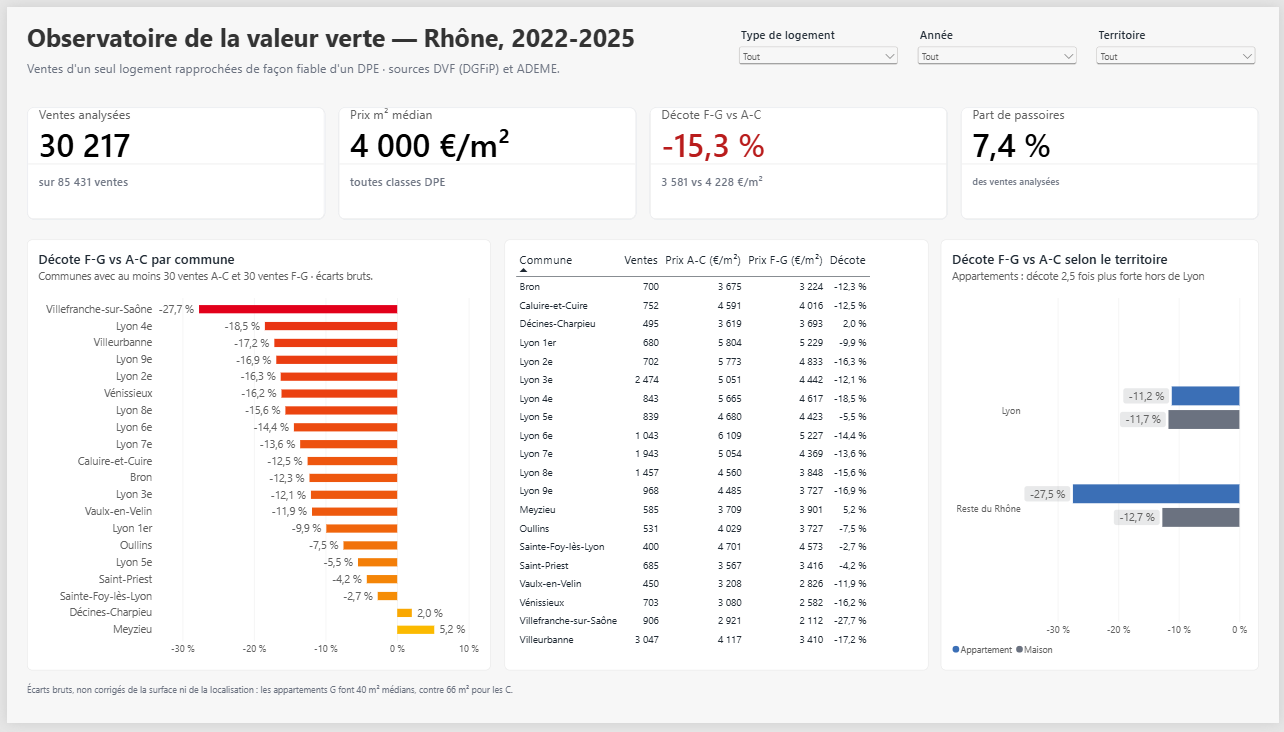

The page's visual inventory and layout, read from the dashboard file:
{"tool":"powerbi","page":{"name":"Territoires","canvas":[1920,1080],"ordinal":1},"visuals":[{"type":"textbox","box":[30,20,1050,60],"z":0},{"type":"textbox","box":[30,80,1050,40],"z":1000},{"type":"slicer","fields":{"Values":["fait_ventes.type_logement"]},"box":[1100,30,250,75],"z":2000},{"type":"slicer","fields":{"Values":["dim_temps.annee"]},"box":[1370,30,250,75],"z":3000},{"type":"slicer","fields":{"Values":["dim_commune.Zone"]},"box":[1640,30,250,75],"z":4000},{"type":"cardVisual","fields":{"Data":["Mesures.Ventes analysées (affichage)"]},"box":[30,150,450,170],"z":5000},{"type":"cardVisual","fields":{"Data":["Mesures.Prix m² médian (affichage)"]},"box":[500,150,450,170],"z":6000},{"type":"cardVisual","fields":{"Data":["Mesures.Décote F-G vs A-C"]},"box":[970,150,450,170],"z":7000},{"type":"cardVisual","fields":{"Data":["Mesures.Part de passoires"]},"box":[1440,150,450,170],"z":8000},{"type":"textbox","box":[30,1020,1200,40],"z":9000},{"type":"clusteredBarChart","title":"Décote F-G vs A-C par commune","fields":{"Category":["dim_commune.libelle"],"Y":["Mesures.Décote fiable"]},"box":[30,350,700,650],"z":10000},{"type":"tableEx","fields":{"Values":["dim_commune.libelle","Mesures.Ventes analysées","Mesures.Prix m² médian A-C","Mesures.Prix m² médian F-G","Mesures.Décote fiable"]},"box":[750,350,640,650],"z":11000},{"type":"clusteredBarChart","title":"Décote F-G vs A-C selon le territoire","fields":{"Category":["dim_commune.Zone"],"Series":["fait_ventes.type_logement"],"Y":["Mesures.Décote fiable"]},"box":[1410,350,480,650],"z":12000}]}

Visuals, with their boxes in screenshot pixels (x1, y1, x2, y2), scaled from the page's 1920x1080 canvas onto the 1284x732 screenshot:
textbox: (20, 14, 722, 54)
textbox: (20, 54, 722, 81)
slicer - fait_ventes.type_logement: (736, 20, 903, 71)
slicer - dim_temps.annee: (916, 20, 1083, 71)
slicer - dim_commune.Zone: (1097, 20, 1264, 71)
cardVisual - Mesures.Ventes analysées (affichage): (20, 102, 321, 217)
cardVisual - Mesures.Prix m² médian (affichage): (334, 102, 635, 217)
cardVisual - Mesures.Décote F-G vs A-C: (649, 102, 950, 217)
cardVisual - Mesures.Part de passoires: (963, 102, 1264, 217)
textbox: (20, 691, 823, 718)
"Décote F-G vs A-C par commune" clusteredBarChart: (20, 237, 488, 678)
tableEx - dim_commune.libelle x Mesures.Ventes analysées: (502, 237, 930, 678)
"Décote F-G vs A-C selon le territoire" clusteredBarChart: (943, 237, 1264, 678)
